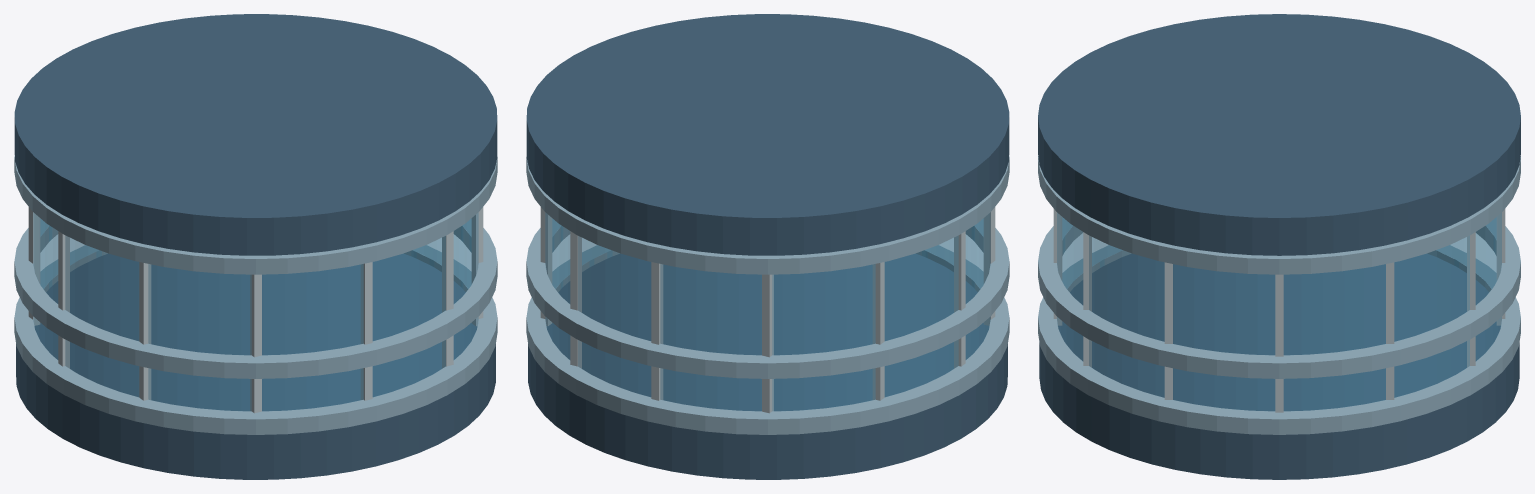
The model's file is 07_L78_CentralVacuumTransferHub.fbx.
The picture shows the model from 3 angles, left to right: view 1: azimuth 30°, elevation 25°; view 2: azimuth 150°, elevation 25°; view 3: azimuth 270°, elevation 25°; orthographic projection.
Parts seen in each view (by area): view 1: CentralVacuumTransferHub; view 2: CentralVacuumTransferHub; view 3: CentralVacuumTransferHub.
Part boxes in pixels (box(x1,y1,x2,y2)): CentralVacuumTransferHub: box(14, 14, 497, 479); CentralVacuumTransferHub: box(526, 14, 1009, 479); CentralVacuumTransferHub: box(1038, 14, 1520, 479).
Size of the model in its own units: 336 by 202 by 336.
